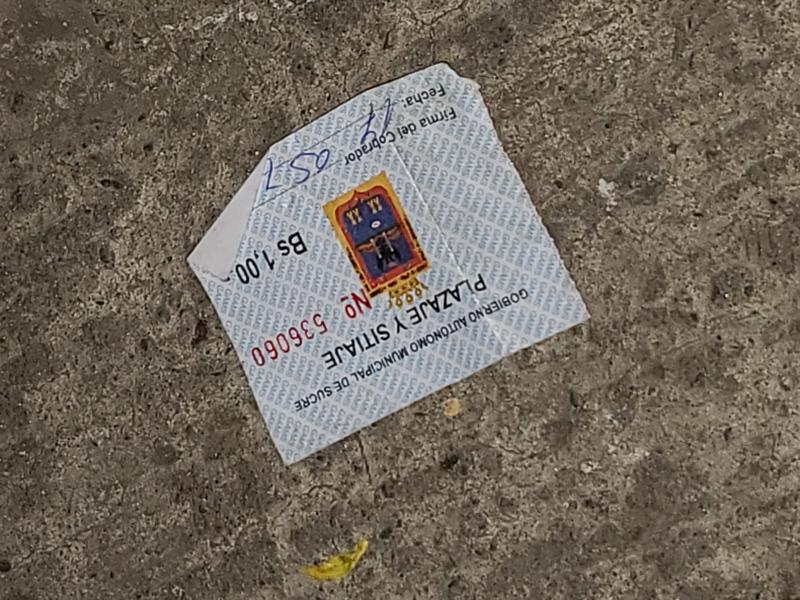papel: (188, 64, 589, 466)
